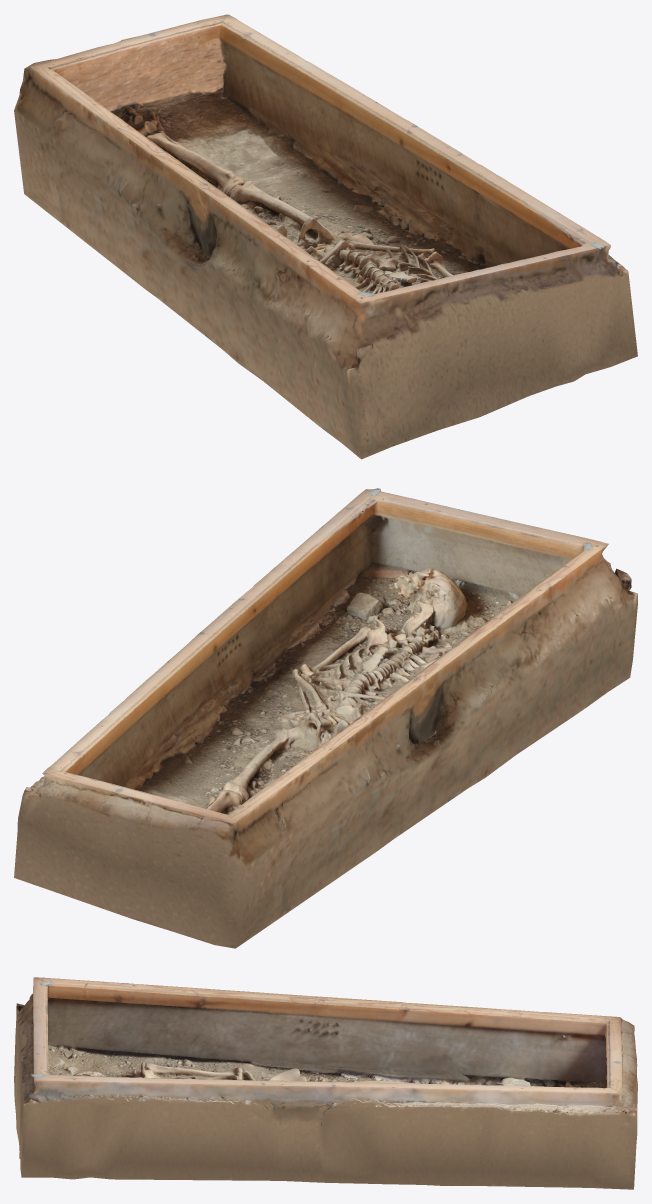
Rendered from calatrava-knight.glb.
The picture shows the model from 3 angles, top to bottom: view 1: azimuth 30°, elevation 25°; view 2: azimuth 150°, elevation 25°; view 3: azimuth 270°, elevation 25°; orthographic projection. The views are drawn at different scales.
Bounding box in the file's own units: 0.7762 × 0.4149 × 1.77.
Materials: 1 (1 with a texture image).
